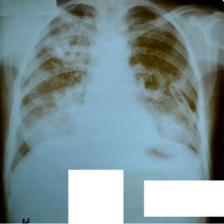tuberculosis: (2, 0, 222, 176)
